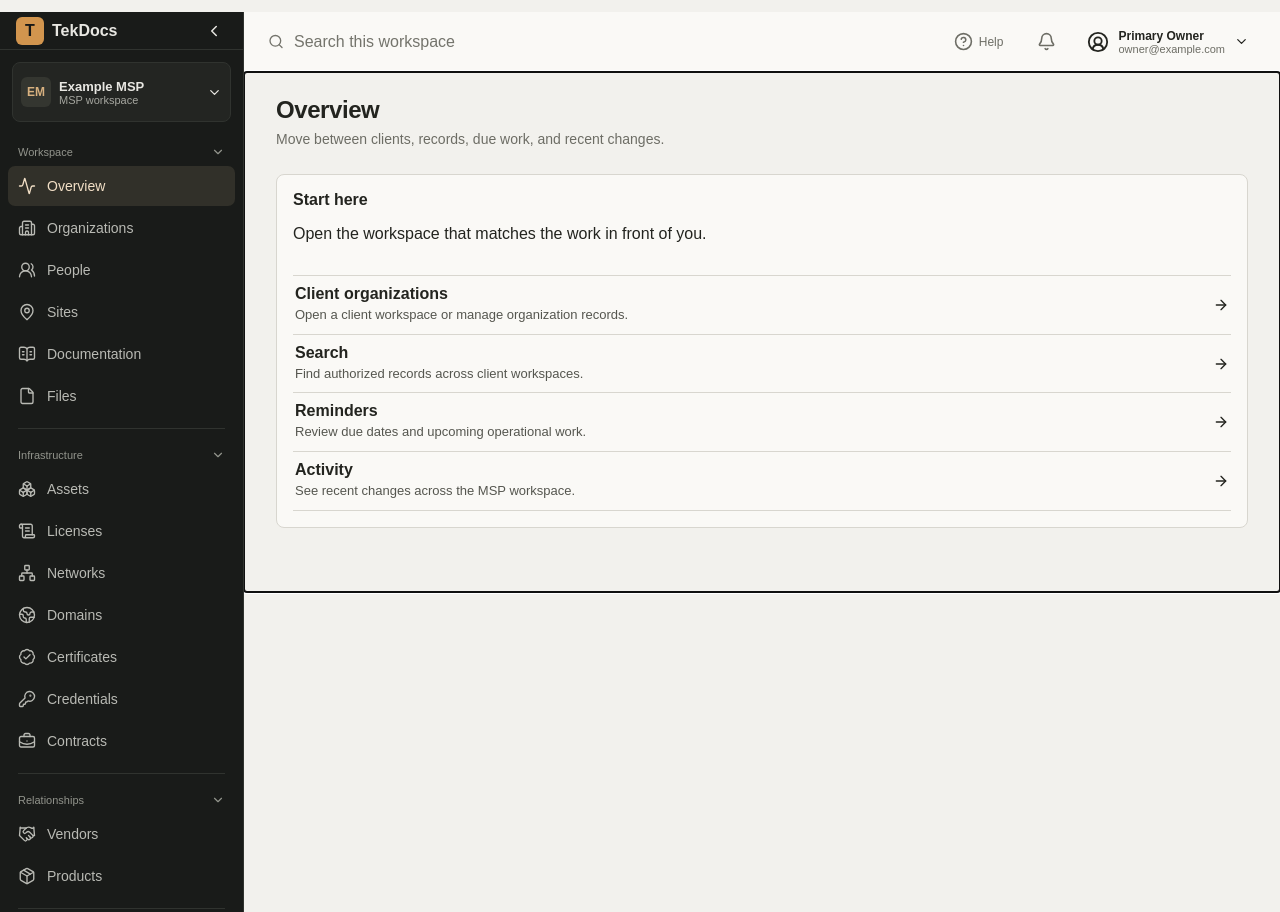
Scenario: authentication boundary › keeps the authenticated shell available when sign out fails
This screenshot has width=1280, height=912.
Click the button with aria-label "Account menu for Primary Owner": (1168, 42) [1080,24,1256,60]
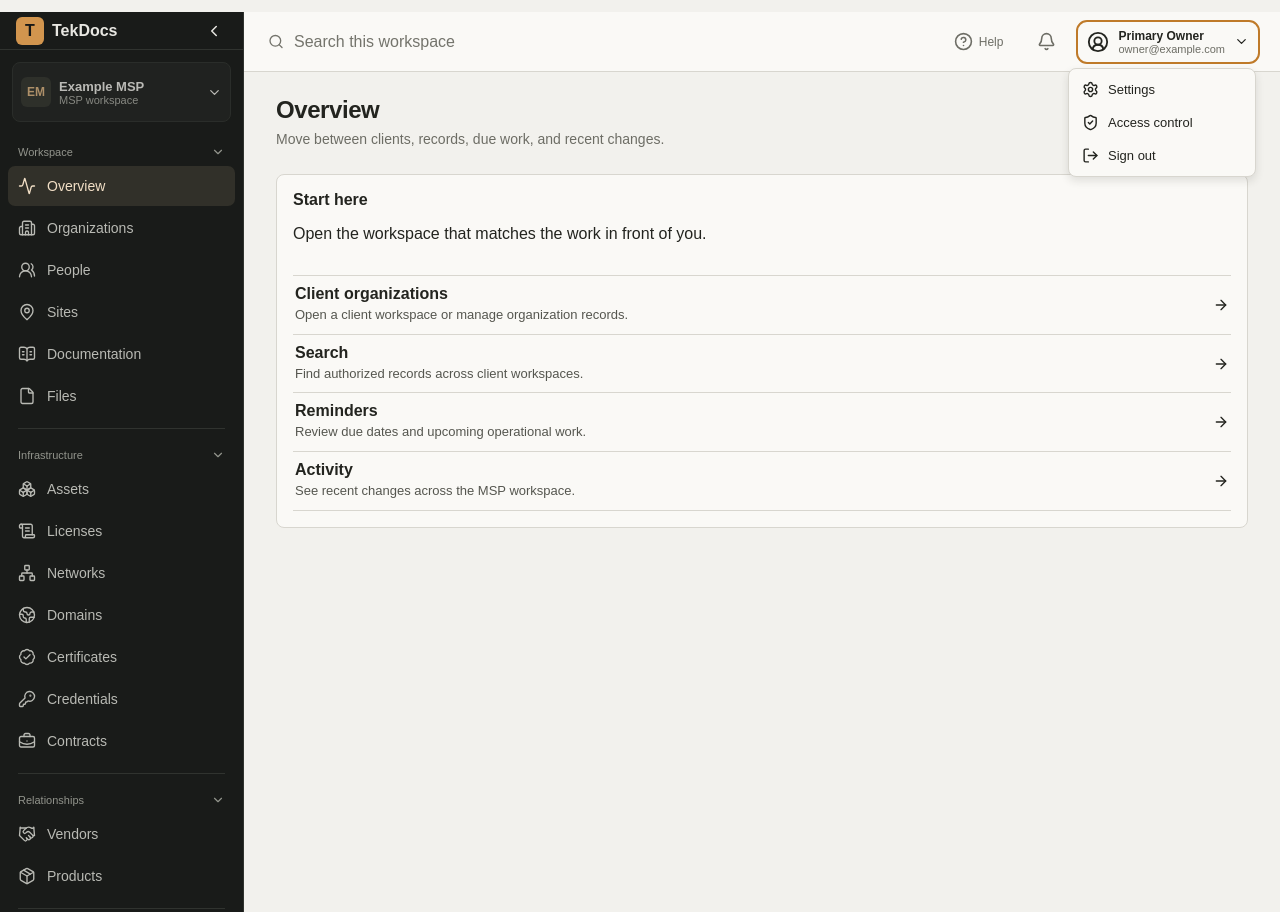
Click the menu item "Sign out": (1162, 155) [1073,138,1251,172]
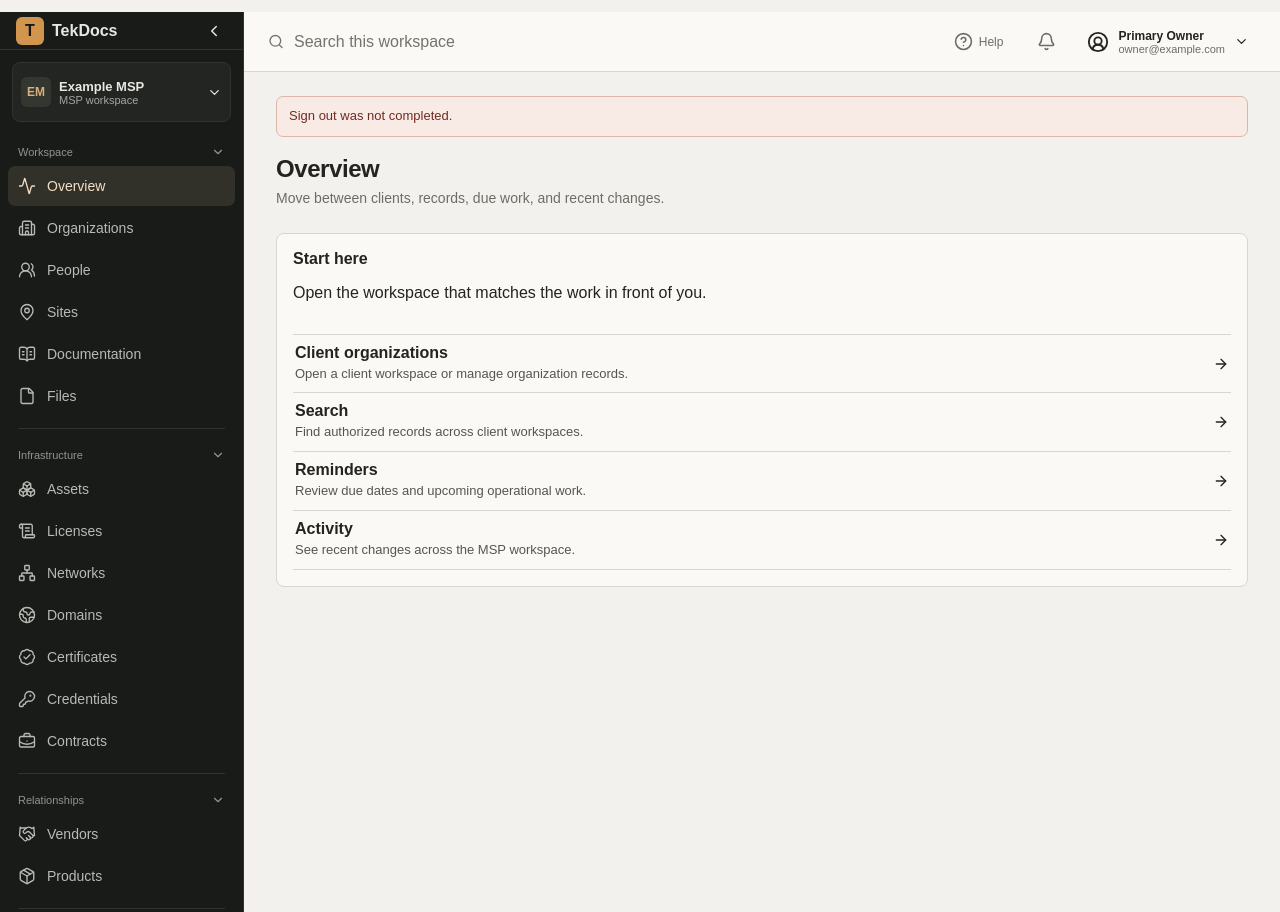
Expected: the heading "Overview" is shown, [276,155,379,182]
Now the message shows "Sign out was not completed", box [289,108,452,123]
